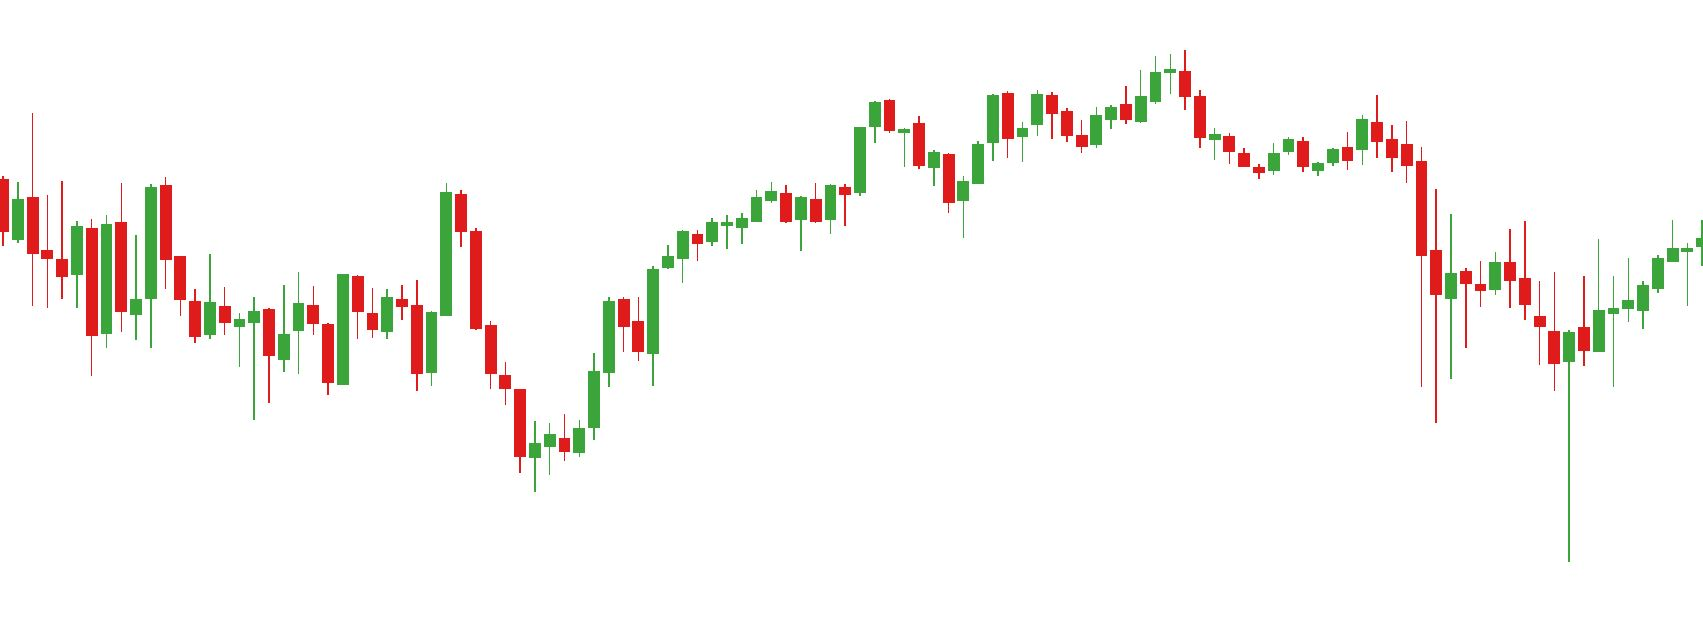sell: (1281, 94, 1386, 165)
